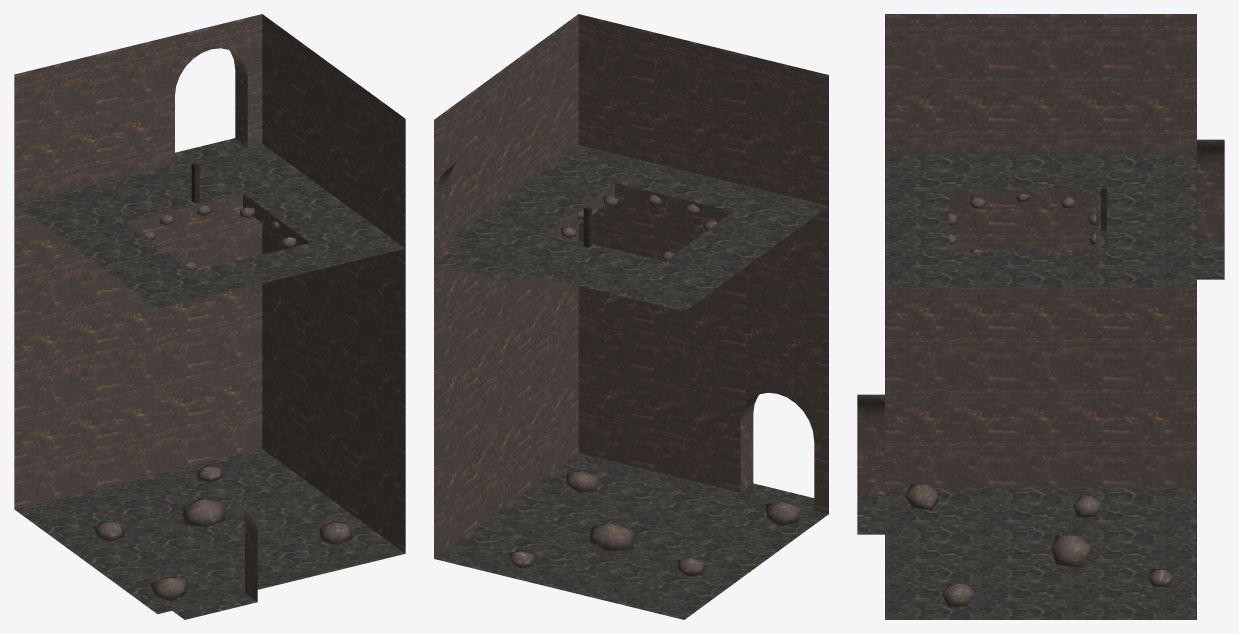
Rendered from sinkhole.5c41754e.gltf.
3 renders of one model, left to right at view 1: azimuth 30°, elevation 25°; view 2: azimuth 150°, elevation 25°; view 3: azimuth 270°, elevation 25°, orthographic. The views are drawn at different scales.
Visible parts, largest first — view 1: sinkhole-mesh; view 2: sinkhole-mesh; view 3: sinkhole-mesh.
Boxes of the visible parts, x1,y1,x2,y2 form: sinkhole-mesh: (14, 14, 405, 619); sinkhole-mesh: (434, 14, 828, 619); sinkhole-mesh: (857, 14, 1224, 619).
Bounding box in the file's own units: 6.8 × 11.57 × 8.
Materials: 3 (3 with a texture image).
